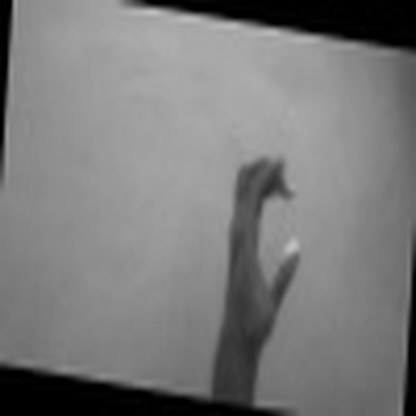c: (214, 147, 313, 363)
